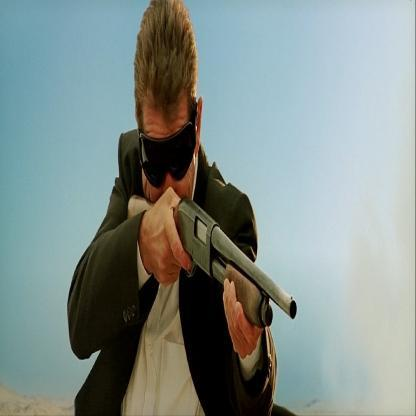gun: (176, 185, 305, 340)
